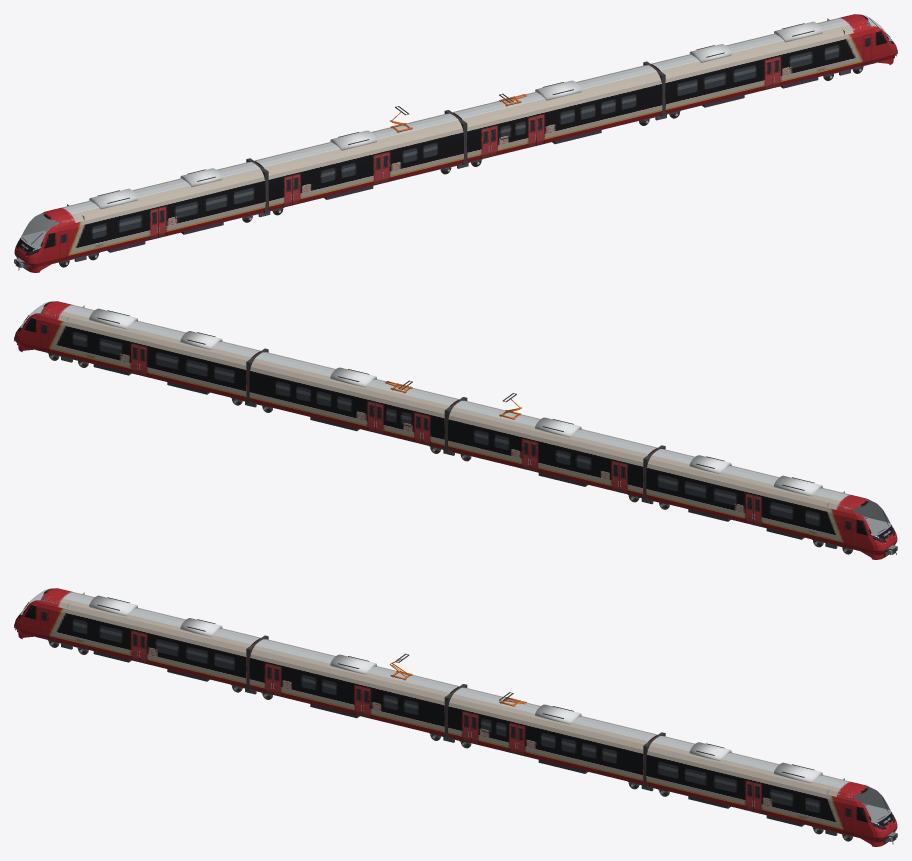
The model's file is SKM_przed_szyby.glb.
3 views of the same model, one above another, from view 1: azimuth 30°, elevation 25°; view 2: azimuth 150°, elevation 25°; view 3: azimuth 330°, elevation 25° (orthographic).
Parts seen in each view (by area): view 1: IMP_czlon1, IMP_czlon4, IMP_czlon2, IMP_czlon3, IMP_dach, IMP_rama, IMP_guma, IMP_harm, KABINA_WN_0, SZYBA_CZ_0; view 2: IMP_czlon1, IMP_czlon4, IMP_czlon2, IMP_czlon3, IMP_dach, IMP_rama, IMP_guma, IMP_harm, KABINA_WN_0, SZYBA_CZ_0; view 3: IMP_czlon4, IMP_czlon1, IMP_czlon2, IMP_czlon3, IMP_dach, IMP_rama, IMP_guma, IMP_harm, KABINA_WN_1, SZYBA_CZ_1.
Part boxes in pixels (box(x1,y1,x2,y2)): IMP_czlon1: box(14, 162, 265, 266); IMP_czlon4: box(651, 14, 897, 113); IMP_czlon2: box(254, 113, 463, 210); IMP_czlon3: box(452, 65, 662, 162); IMP_dach: box(89, 21, 822, 209); IMP_rama: box(52, 23, 875, 263); IMP_guma: box(17, 44, 896, 270); IMP_harm: box(246, 61, 665, 213); KABINA_WN_0: box(20, 212, 82, 248); SZYBA_CZ_0: box(21, 213, 57, 248); IMP_czlon1: box(646, 449, 897, 553); IMP_czlon4: box(14, 301, 260, 400); IMP_czlon2: box(448, 400, 657, 497); IMP_czlon3: box(249, 352, 459, 449); IMP_dach: box(89, 308, 822, 496); IMP_rama: box(36, 310, 859, 550); IMP_guma: box(72, 331, 896, 554); IMP_harm: box(246, 348, 665, 500); KABINA_WN_0: box(832, 499, 891, 535); SZYBA_CZ_0: box(854, 500, 890, 535); IMP_czlon4: box(646, 736, 897, 840); IMP_czlon1: box(14, 588, 260, 687); IMP_czlon2: box(249, 639, 459, 736); IMP_czlon3: box(448, 687, 657, 784); IMP_dach: box(89, 595, 822, 783); IMP_rama: box(36, 597, 859, 837); IMP_guma: box(15, 618, 894, 844); IMP_harm: box(246, 635, 665, 787); KABINA_WN_1: box(829, 786, 891, 822); SZYBA_CZ_1: box(854, 787, 890, 822).
Size of the model in its own units: 74.41 by 5.6 by 2.97.
Materials: 26 (1 with a texture image).
